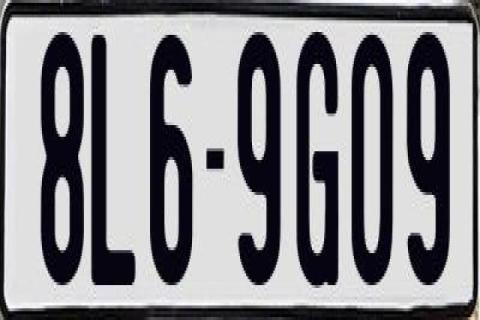0: (40, 32, 90, 291), (236, 24, 282, 294), (404, 29, 450, 282), (348, 29, 390, 294), (148, 27, 190, 280)
G: (292, 24, 340, 288)
L: (92, 26, 140, 282)
